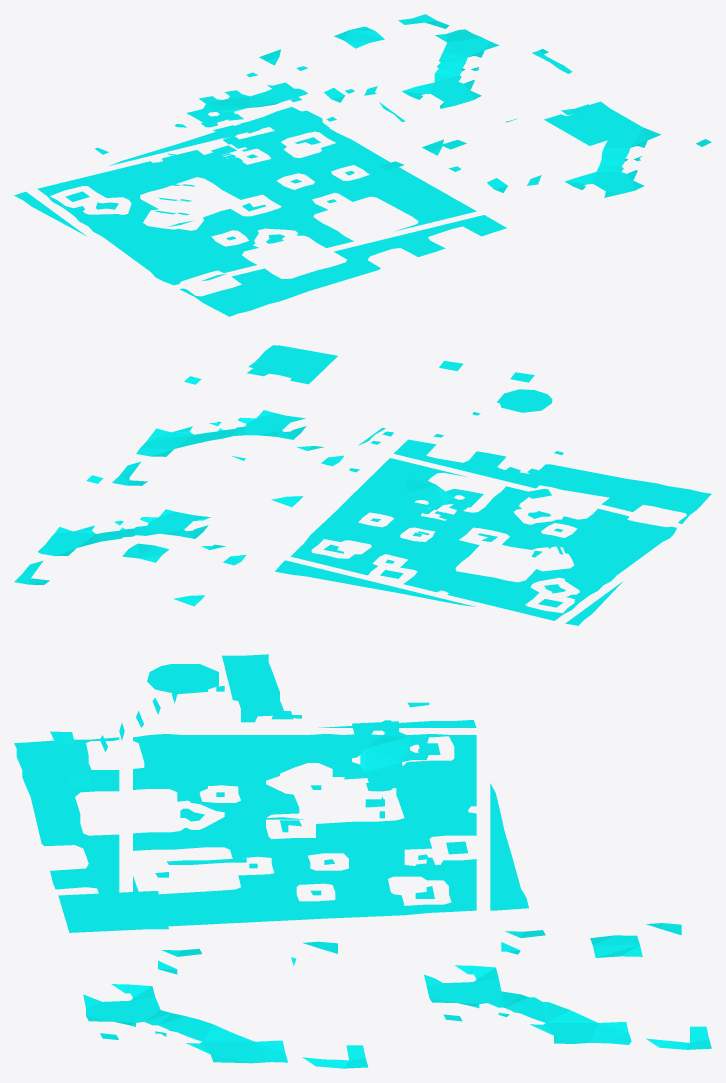
Rendered from dmesh_test.obj.
3 views of the same model, one above another, from view 1: azimuth 30°, elevation 25°; view 2: azimuth 150°, elevation 25°; view 3: azimuth 270°, elevation 25° (orthographic). The views are drawn at different scales.
Size of the model in its own units: 89.4 by 19 by 75.6.
